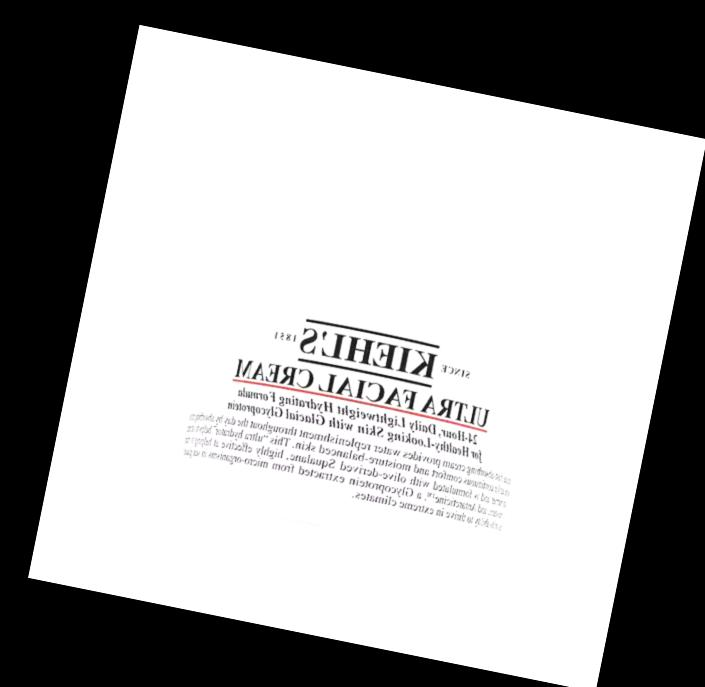cosmetic: (169, 219, 560, 564)
